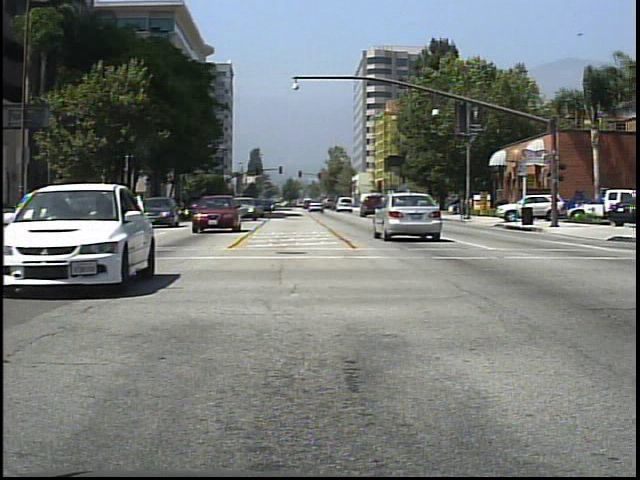person: (430, 189, 448, 219), (462, 190, 477, 222)
